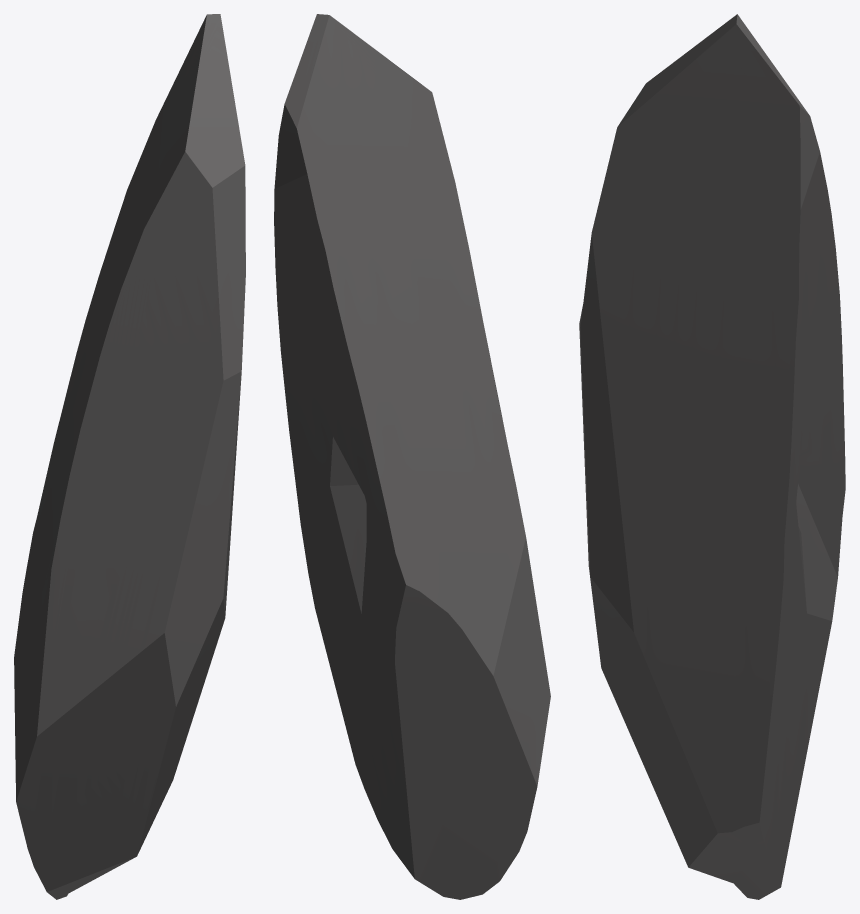
The model's file is menhir-large.gltf.
3 views of the same model, side by side, from view 1: azimuth 30°, elevation 25°; view 2: azimuth 150°, elevation 25°; view 3: azimuth 270°, elevation 25° (orthographic). The views are drawn at different scales.
Visible parts, largest first — view 1: menhir_long; view 2: menhir_long; view 3: menhir_long.
Boxes of the visible parts, x1,y1,x2,y2 form: menhir_long: (14, 14, 245, 899); menhir_long: (274, 14, 550, 899); menhir_long: (579, 14, 845, 899).
Size of the model in its own units: 3.71 by 13.23 by 3.33.
Materials: 1 (1 with a texture image).
